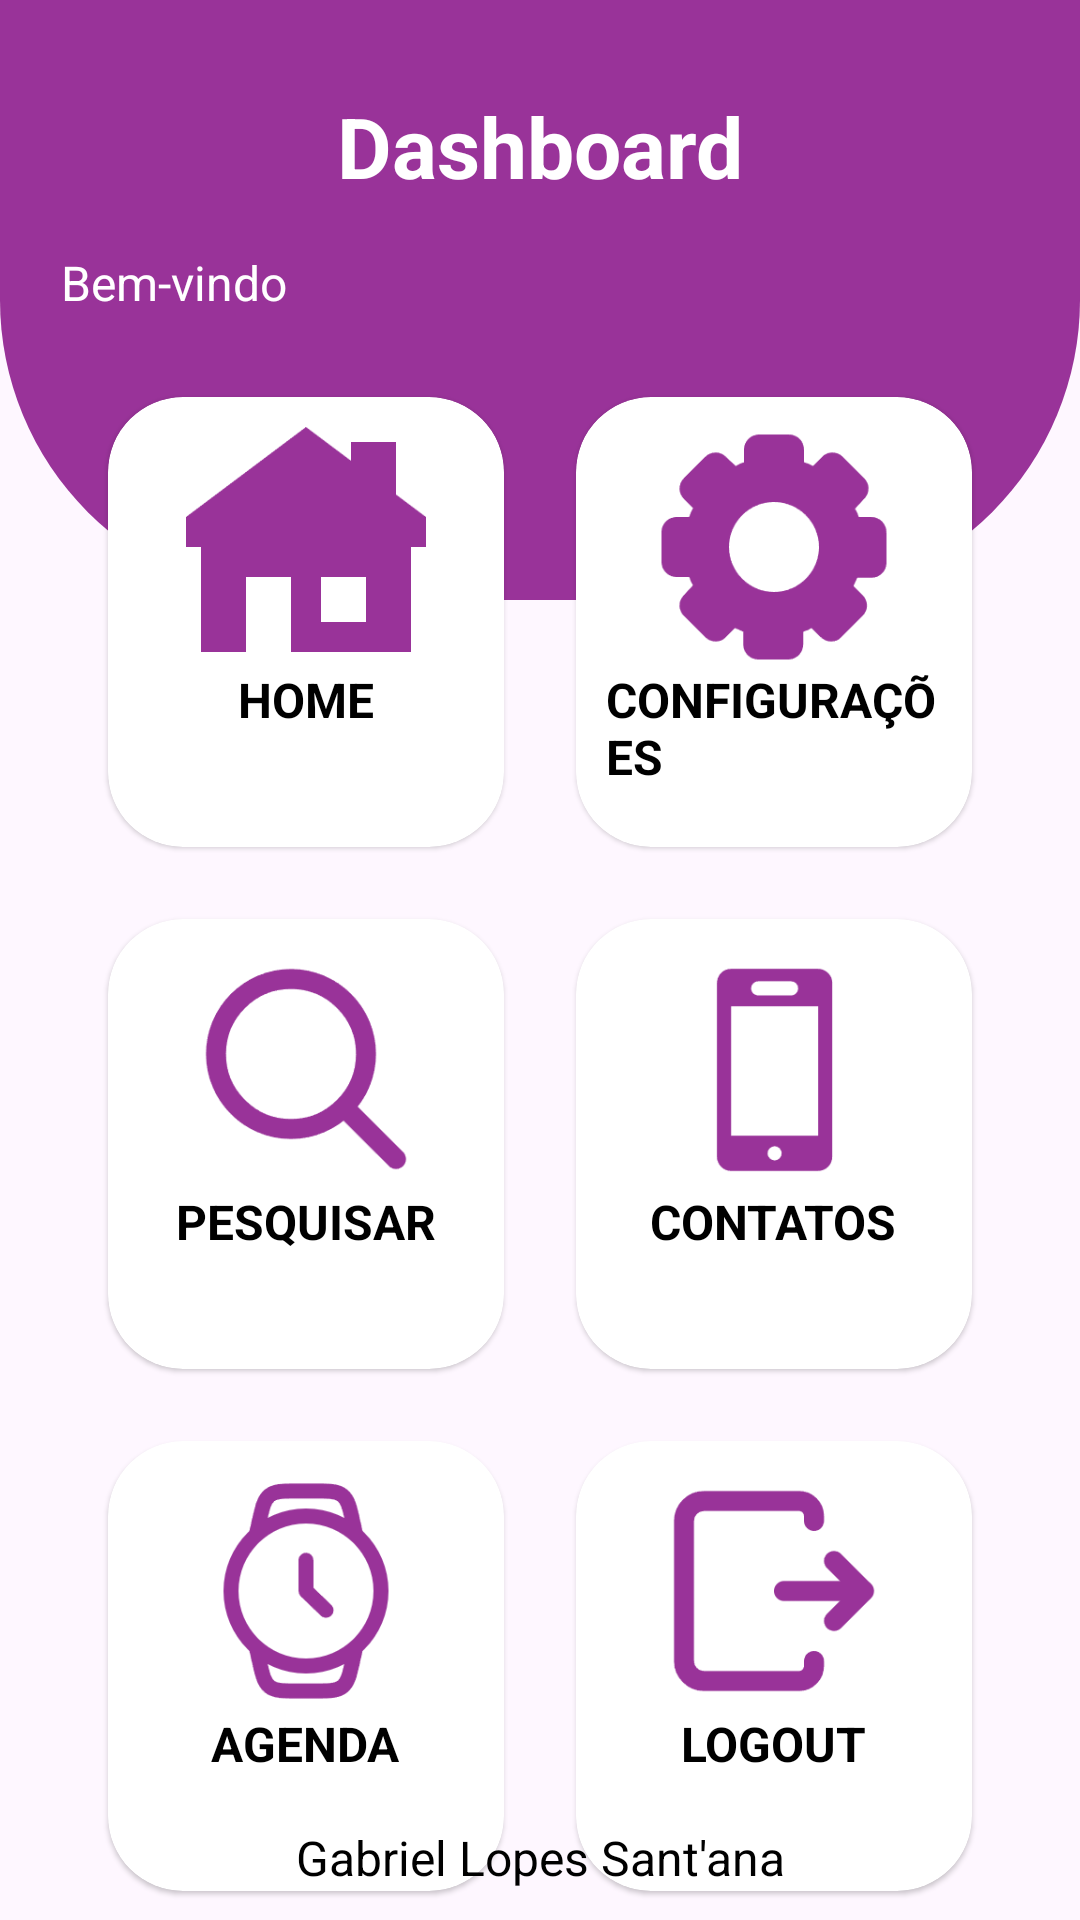

Icons on this 1080px×1920px Android screen, each with the point to tap as (x=x, y=y):
clock: (x=306, y=1591)
gear: (x=774, y=547)
out: (x=774, y=1591)
phone: (x=774, y=1070)
